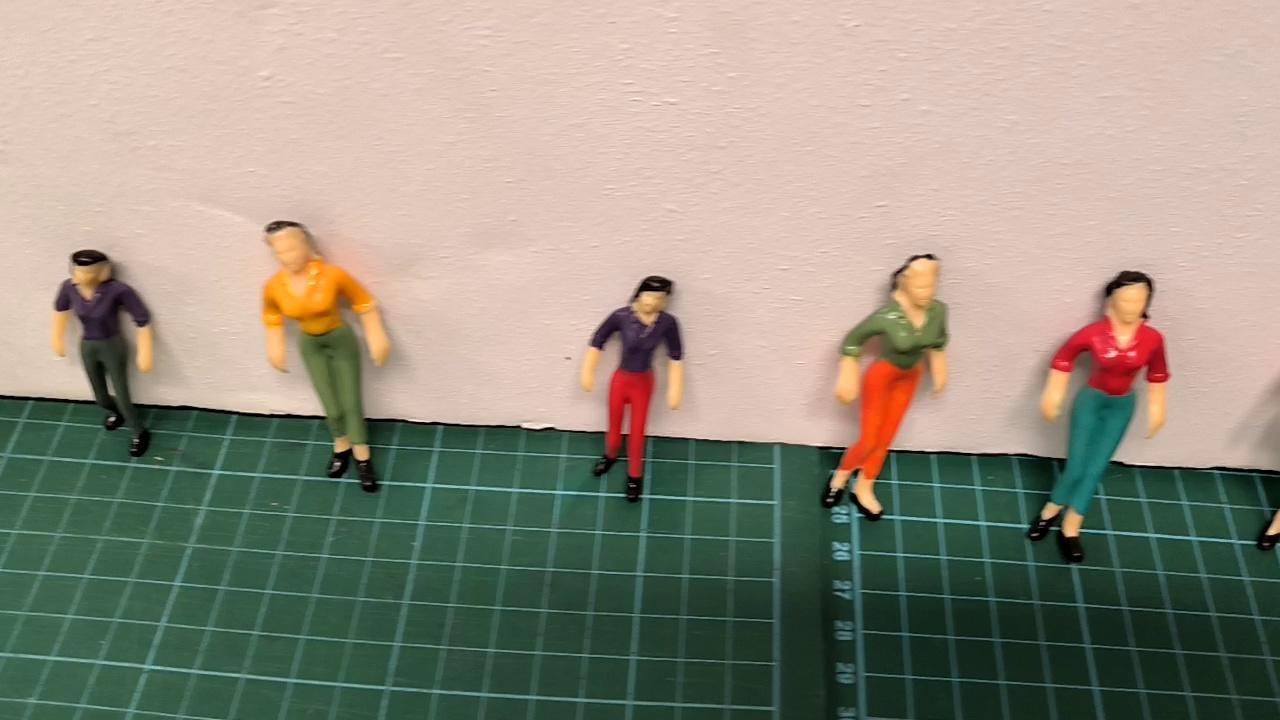human: (1015, 267, 1177, 567), (257, 216, 397, 497), (816, 250, 953, 527), (574, 272, 689, 509), (48, 246, 157, 460)
